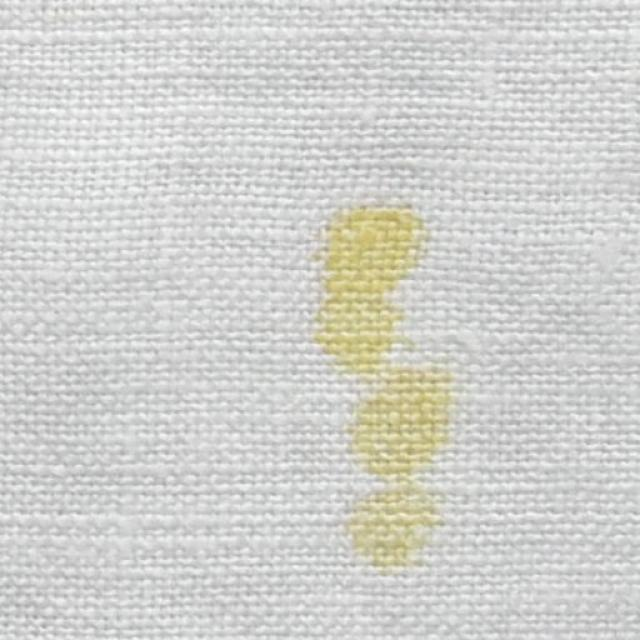Stain: (318, 202, 421, 370), (352, 370, 459, 470), (352, 484, 436, 561)
